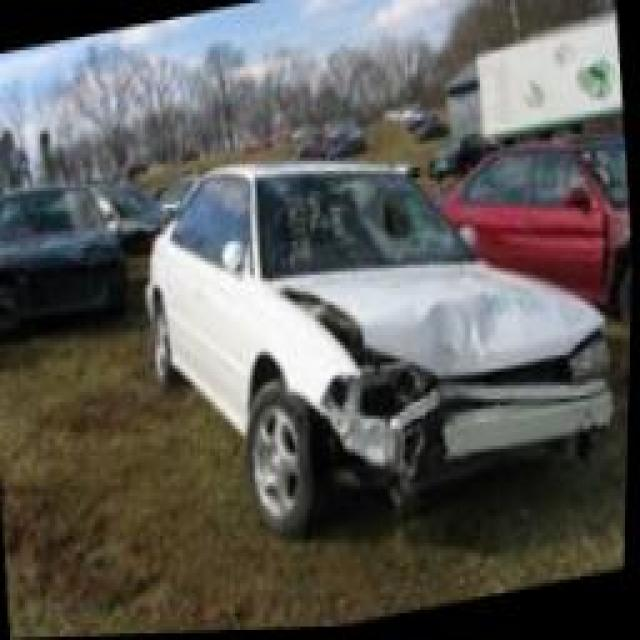Bonnet: (269, 256, 602, 382)
Bumper: (321, 377, 615, 486)
Light: (362, 371, 432, 418)
Windshield: (259, 176, 466, 272)
